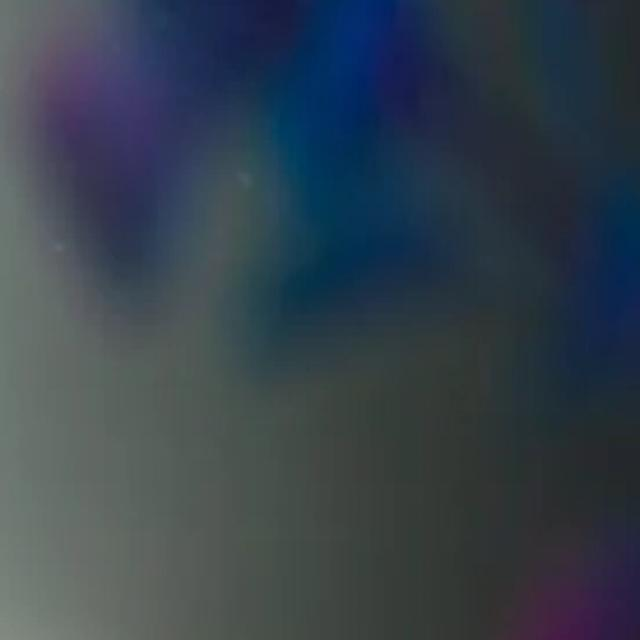fish: (0, 3, 638, 640)
